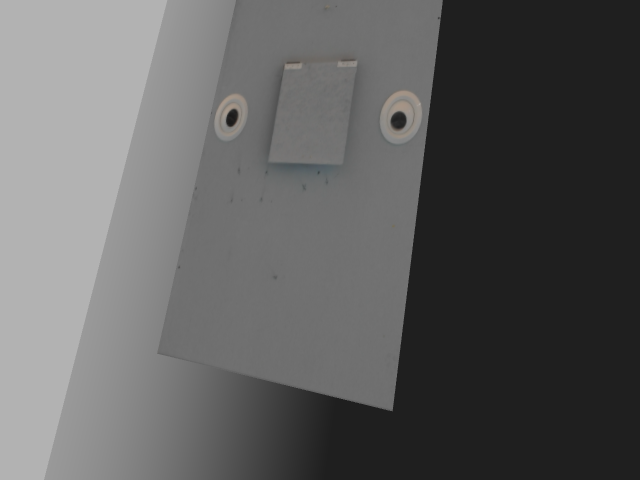facade: (211, 57, 423, 170)
